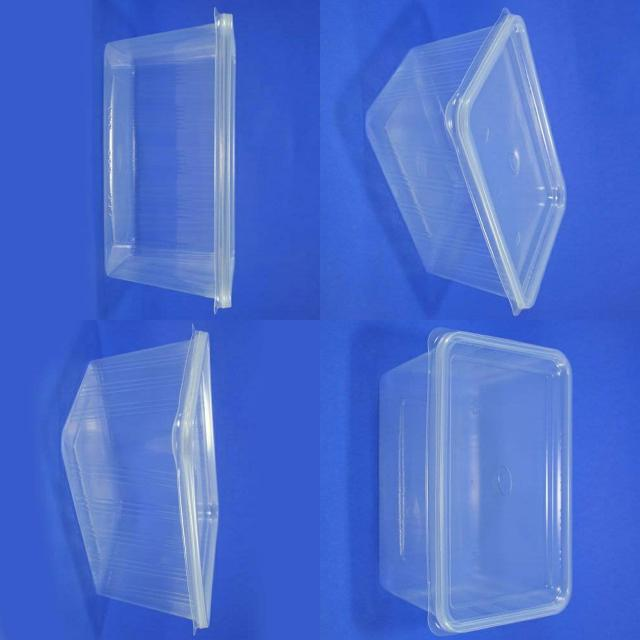Single-Use-Plastic: (365, 11, 566, 313), (380, 330, 571, 635), (61, 331, 219, 629), (104, 12, 235, 309)
